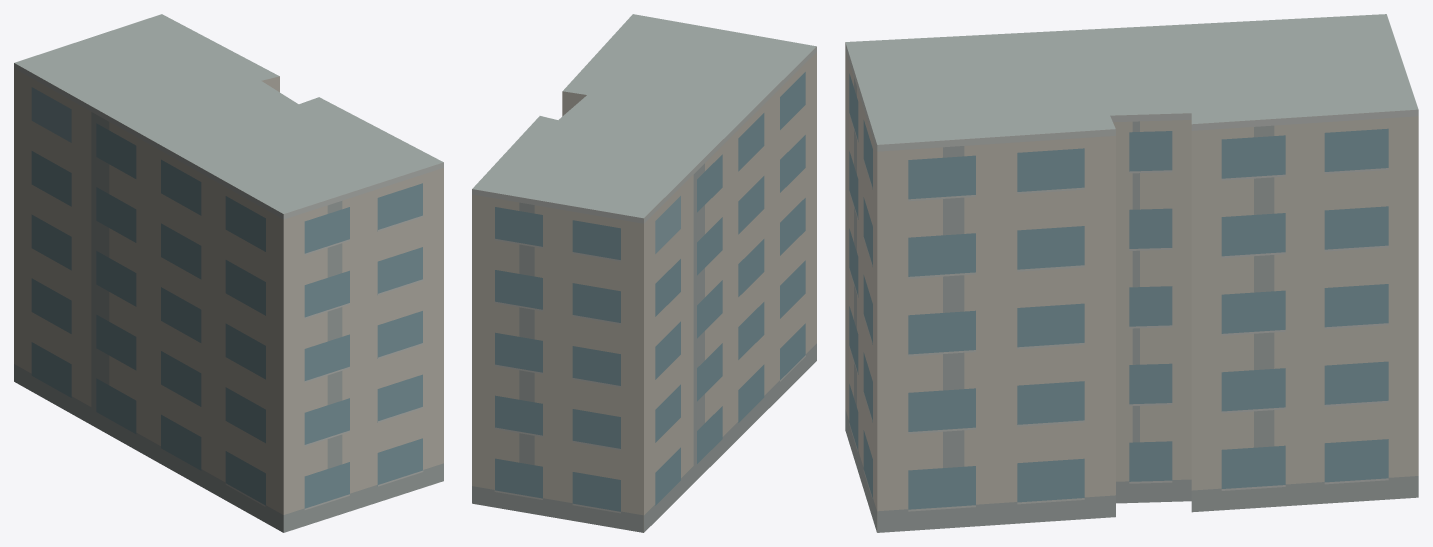
Rendered from survey-upis-32576337.glb.
The picture shows the model from 3 angles, left to right: view 1: azimuth 30°, elevation 25°; view 2: azimuth 150°, elevation 25°; view 3: azimuth 270°, elevation 25°; orthographic projection. The views are drawn at different scales.
Visible parts, largest first — view 1: survey-upis-32576337.tmp; view 2: survey-upis-32576337.tmp; view 3: survey-upis-32576337.tmp.
Part boxes in pixels (x1,y1,x2,y2): survey-upis-32576337.tmp: (14, 14, 443, 532); survey-upis-32576337.tmp: (472, 14, 816, 532); survey-upis-32576337.tmp: (845, 14, 1418, 532).
Size of the model in its own units: 10.22 by 14.1 by 18.89.
